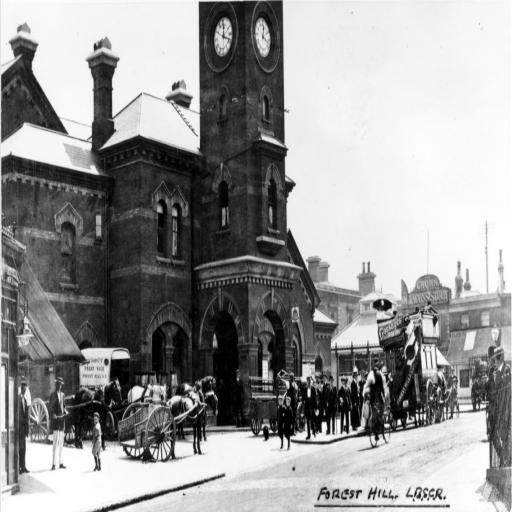Horse: (68, 378, 122, 453), (168, 390, 219, 462), (174, 374, 217, 438), (126, 382, 167, 428)
